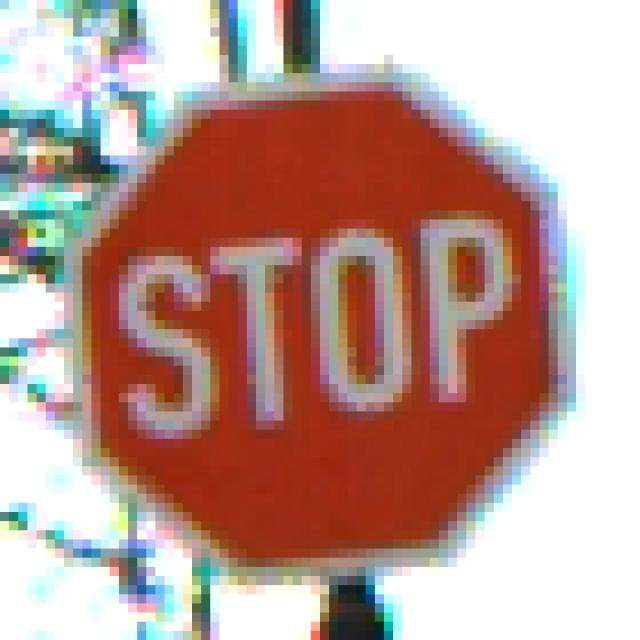STOP: (56, 56, 586, 586)
